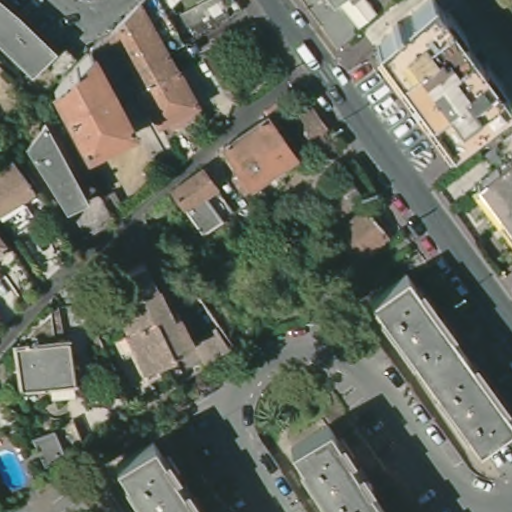pool: (3, 447, 26, 493)
